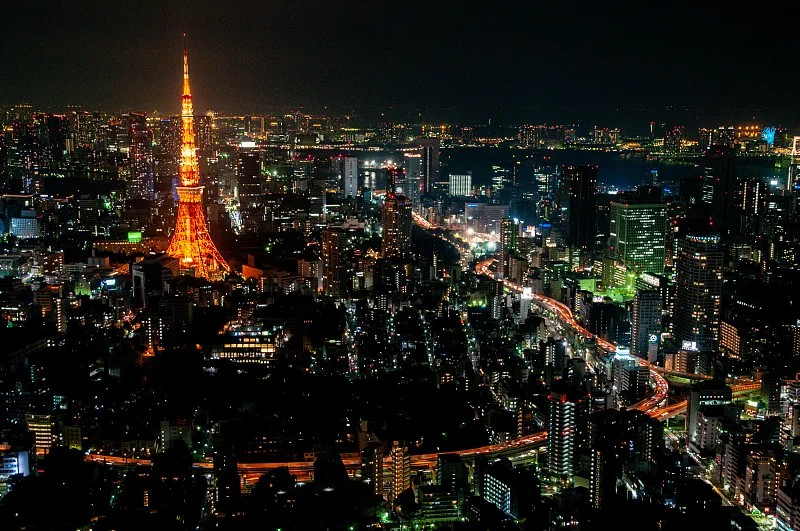Tokyo: (160, 29, 235, 279)
